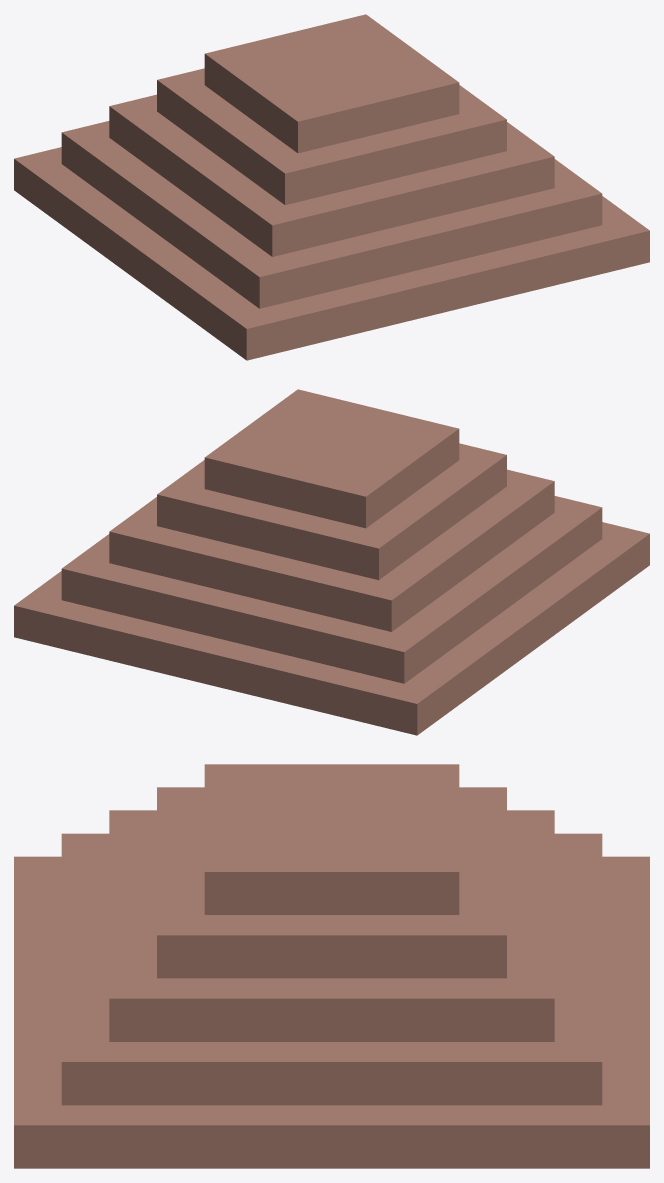
File: voxel-city-districts-hipped-step-roof-0b736e2a__24915.glb
3 renders of one model, top to bottom at view 1: azimuth 30°, elevation 25°; view 2: azimuth 150°, elevation 25°; view 3: azimuth 270°, elevation 25°, orthographic. The views are drawn at different scales.
Visible parts, largest first — view 1: hipped-step-roof-roof; view 2: hipped-step-roof-roof; view 3: hipped-step-roof-roof.
Boxes of the visible parts, left/top/right/bottom form: hipped-step-roof-roof: left=14, top=14, right=649, bottom=360; hipped-step-roof-roof: left=14, top=389, right=649, bottom=735; hipped-step-roof-roof: left=14, top=764, right=649, bottom=1168.
Size of the model in its own units: 4 by 1.5 by 4.
